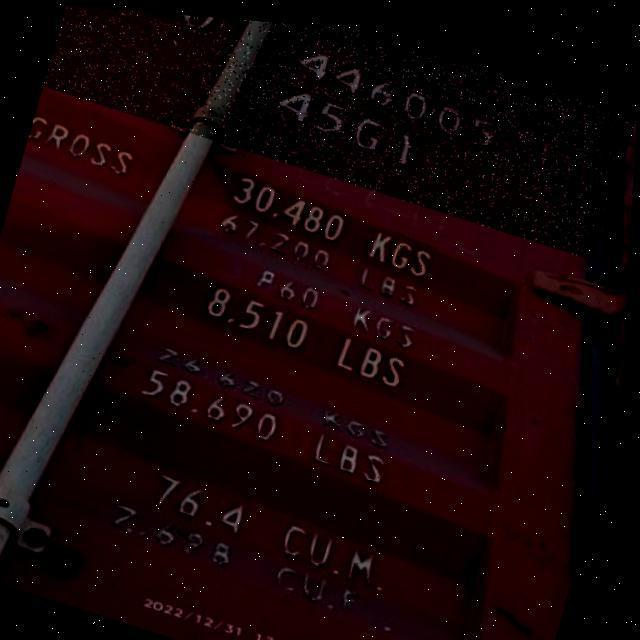container_number_h: (37, 3, 638, 252)
